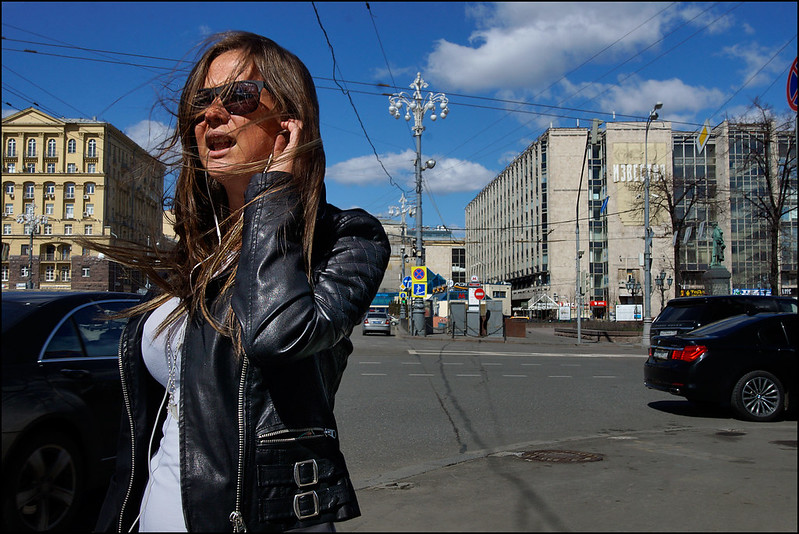phone: (267, 104, 313, 197)
talk: (190, 75, 325, 191)
